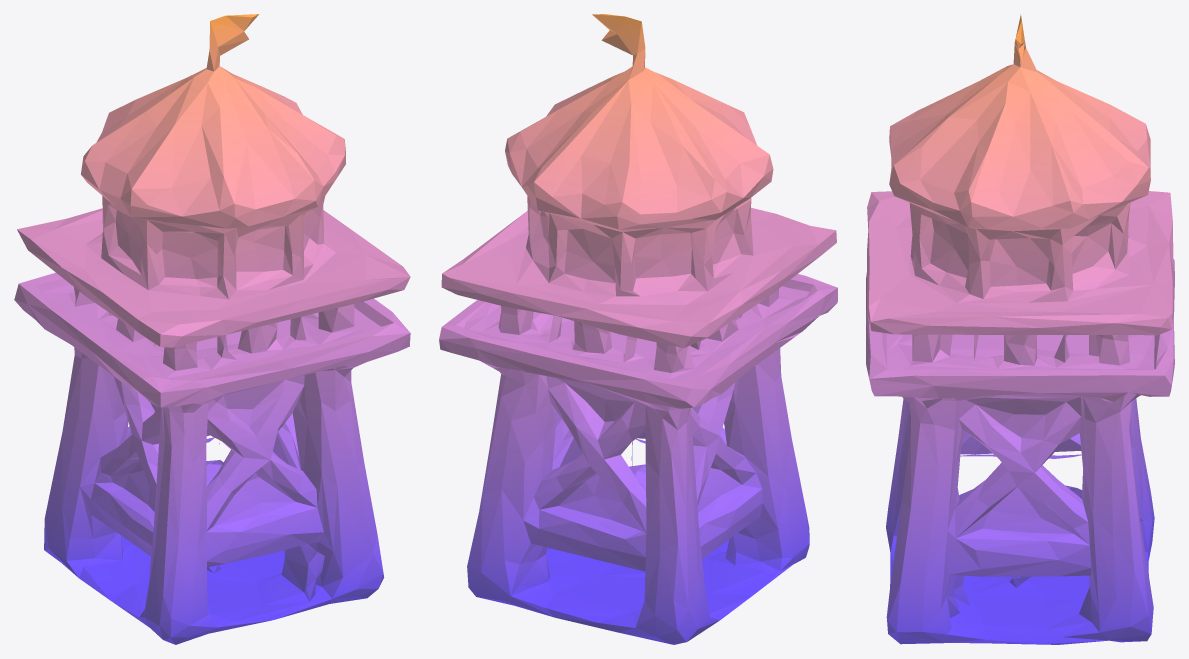
File: 171_cyb_laser_gradient_fish_scales_2929_2026_10_03_a854d1.glb
3 renders of one model, left to right at view 1: azimuth 30°, elevation 25°; view 2: azimuth 150°, elevation 25°; view 3: azimuth 270°, elevation 25°, orthographic. The views are drawn at different scales.
Visible parts, largest first — view 1: geometry_0; view 2: geometry_0; view 3: geometry_0.
Part boxes in pixels (x1=…): geometry_0: x1=14, y1=14, x2=410, y2=644; geometry_0: x1=439, y1=14, x2=837, y2=644; geometry_0: x1=866, y1=14, x2=1174, y2=644.
Size of the model in its own units: 0.4307 by 0.9097 by 0.4324.
